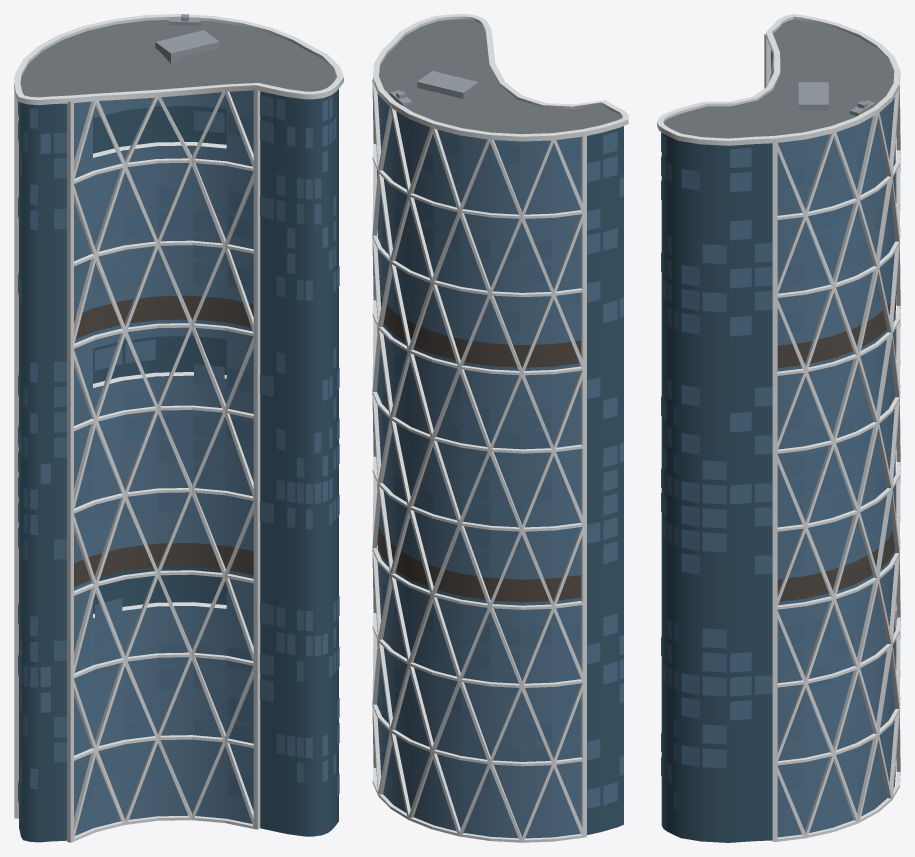
File: the-bow-far.glb
The picture shows the model from 3 angles, left to right: view 1: azimuth 30°, elevation 25°; view 2: azimuth 150°, elevation 25°; view 3: azimuth 270°, elevation 25°; orthographic projection. The views are drawn at different scales.
Visible parts, largest first — view 1: the-bow-0-wing, the-bow-0-glass, the-bow-0-frame, the-bow-0-glow, the-bow-0-roof, the-bow-0-louvre, the-bow-0-metal; view 2: the-bow-0-glass, the-bow-0-frame, the-bow-0-glow, the-bow-0-wing, the-bow-0-roof, the-bow-0-louvre, the-bow-0-metal; view 3: the-bow-0-wing, the-bow-0-glass, the-bow-0-glow, the-bow-0-frame, the-bow-0-roof, the-bow-0-louvre, the-bow-0-metal.
Part boxes in pixels (<box>): the-bow-0-wing: <box>19,89,338,842</box>; the-bow-0-glass: <box>74,90,253,835</box>; the-bow-0-frame: <box>14,14,343,842</box>; the-bow-0-glow: <box>18,95,339,810</box>; the-bow-0-roof: <box>20,20,336,97</box>; the-bow-0-louvre: <box>74,295,253,586</box>; the-bow-0-metal: <box>155,14,219,63</box>; the-bow-0-glass: <box>377,98,580,838</box>; the-bow-0-frame: <box>372,14,628,842</box>; the-bow-0-glow: <box>377,93,623,808</box>; the-bow-0-wing: <box>587,126,623,834</box>; the-bow-0-roof: <box>379,19,622,134</box>; the-bow-0-louvre: <box>377,295,580,602</box>; the-bow-0-metal: <box>389,71,478,106</box>; the-bow-0-wing: <box>661,132,772,842</box>; the-bow-0-glass: <box>770,49,895,837</box>; the-bow-0-glow: <box>661,107,896,811</box>; the-bow-0-frame: <box>657,14,900,841</box>; the-bow-0-roof: <box>664,19,894,138</box>; the-bow-0-louvre: <box>777,291,896,601</box>; the-bow-0-metal: <box>798,82,875,115</box>.
Size of the model in its own units: 90.8 by 236 by 73.63.
